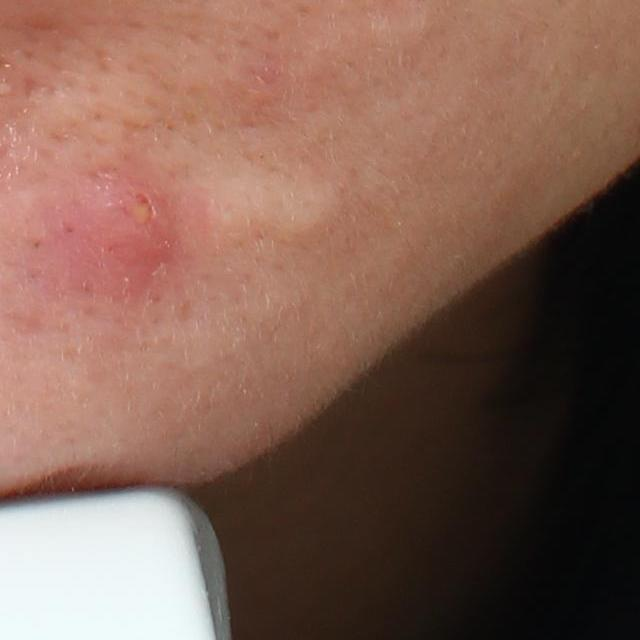hypertrophic_scar: (203, 160, 365, 254), (341, 3, 435, 59)
pustule: (64, 175, 198, 291)
